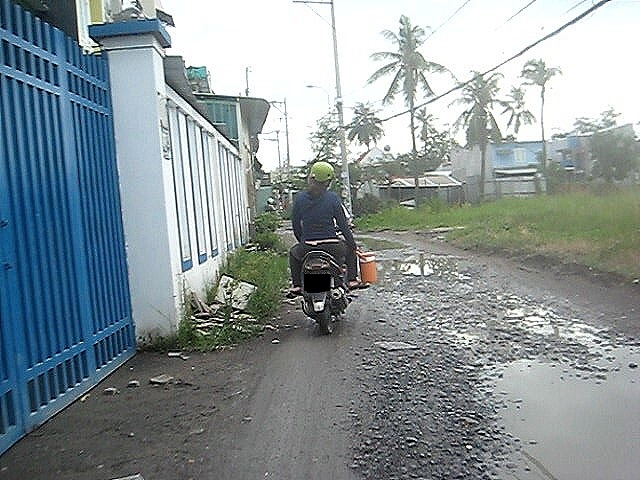hole: (401, 293, 640, 480), (376, 253, 478, 290), (357, 232, 422, 253)
